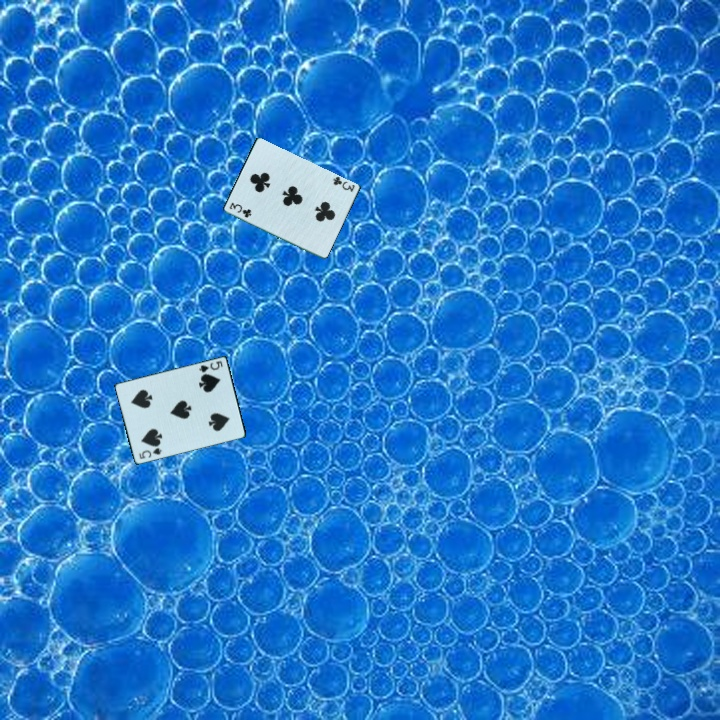3c: (330, 173, 358, 195), (226, 200, 254, 220)
5s: (135, 444, 165, 462), (195, 358, 225, 375)
